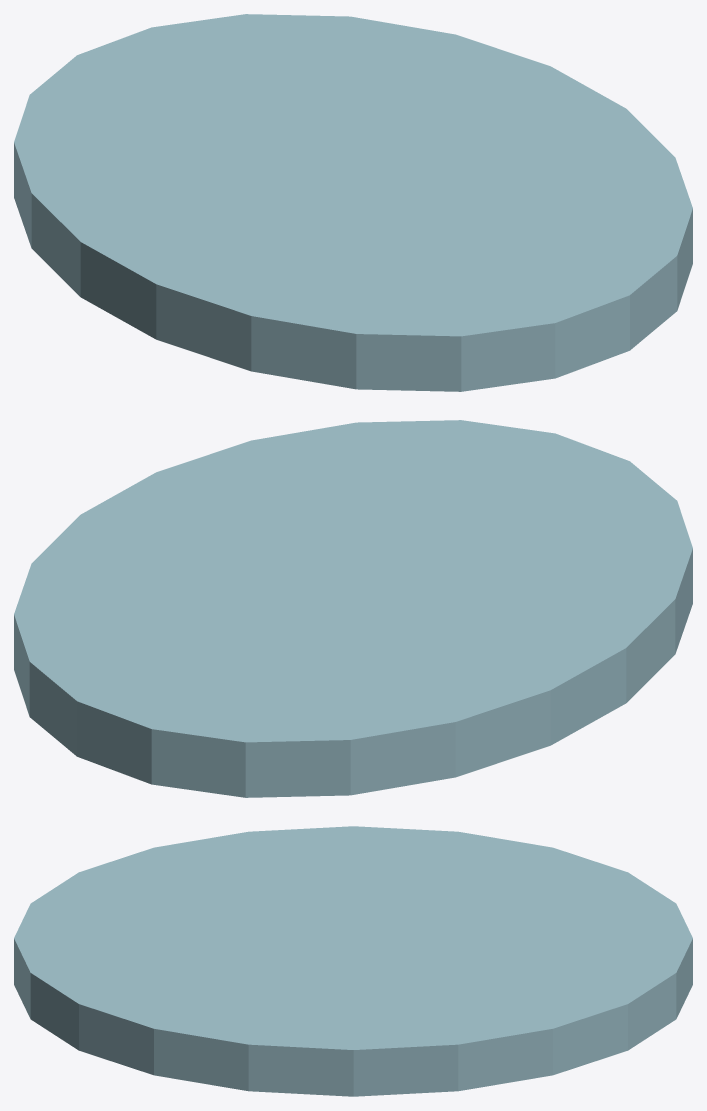
Rendered from CellMembrane.glb.
3 renders of one model, top to bottom at view 1: azimuth 30°, elevation 25°; view 2: azimuth 150°, elevation 25°; view 3: azimuth 270°, elevation 25°, orthographic. The views are drawn at different scales.
Visible parts, largest first — view 1: Mesh_Mesh_head_geo.001_lambert2SG.001; view 2: Mesh_Mesh_head_geo.001_lambert2SG.001; view 3: Mesh_Mesh_head_geo.001_lambert2SG.001.
Part boxes in pixels (<box>): Mesh_Mesh_head_geo.001_lambert2SG.001: <box>14,14,692,391</box>; Mesh_Mesh_head_geo.001_lambert2SG.001: <box>14,420,692,797</box>; Mesh_Mesh_head_geo.001_lambert2SG.001: <box>14,826,692,1096</box>.
Size of the model in its own units: 103 by 10 by 132.
